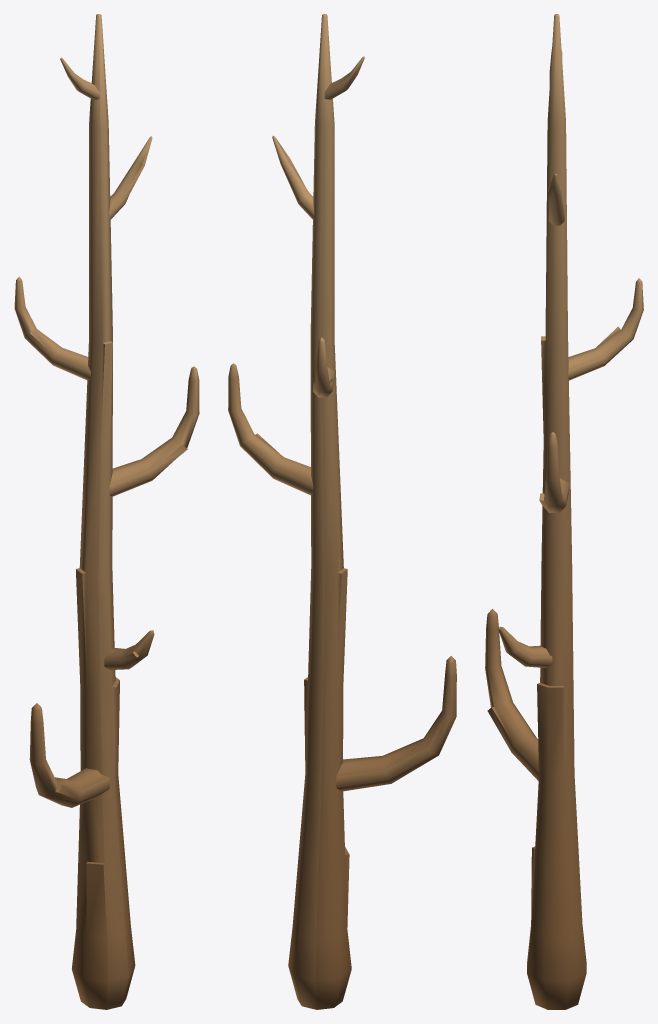
Rendered from Tree_Bare_2_C_Color7.fbx.
The picture shows the model from 3 angles, left to right: view 1: azimuth 30°, elevation 25°; view 2: azimuth 150°, elevation 25°; view 3: azimuth 270°, elevation 25°; orthographic projection.
Visible parts, largest first — view 1: Tree_Bare_2_C_Color7; view 2: Tree_Bare_2_C_Color7; view 3: Tree_Bare_2_C_Color7.
Part boxes in pixels (x1=…): Tree_Bare_2_C_Color7: x1=14, y1=14, x2=199, y2=1009; Tree_Bare_2_C_Color7: x1=228, y1=14, x2=456, y2=1009; Tree_Bare_2_C_Color7: x1=485, y1=14, x2=643, y2=1009.
Size of the model in its own units: 1.58 by 7.61 by 1.1.
